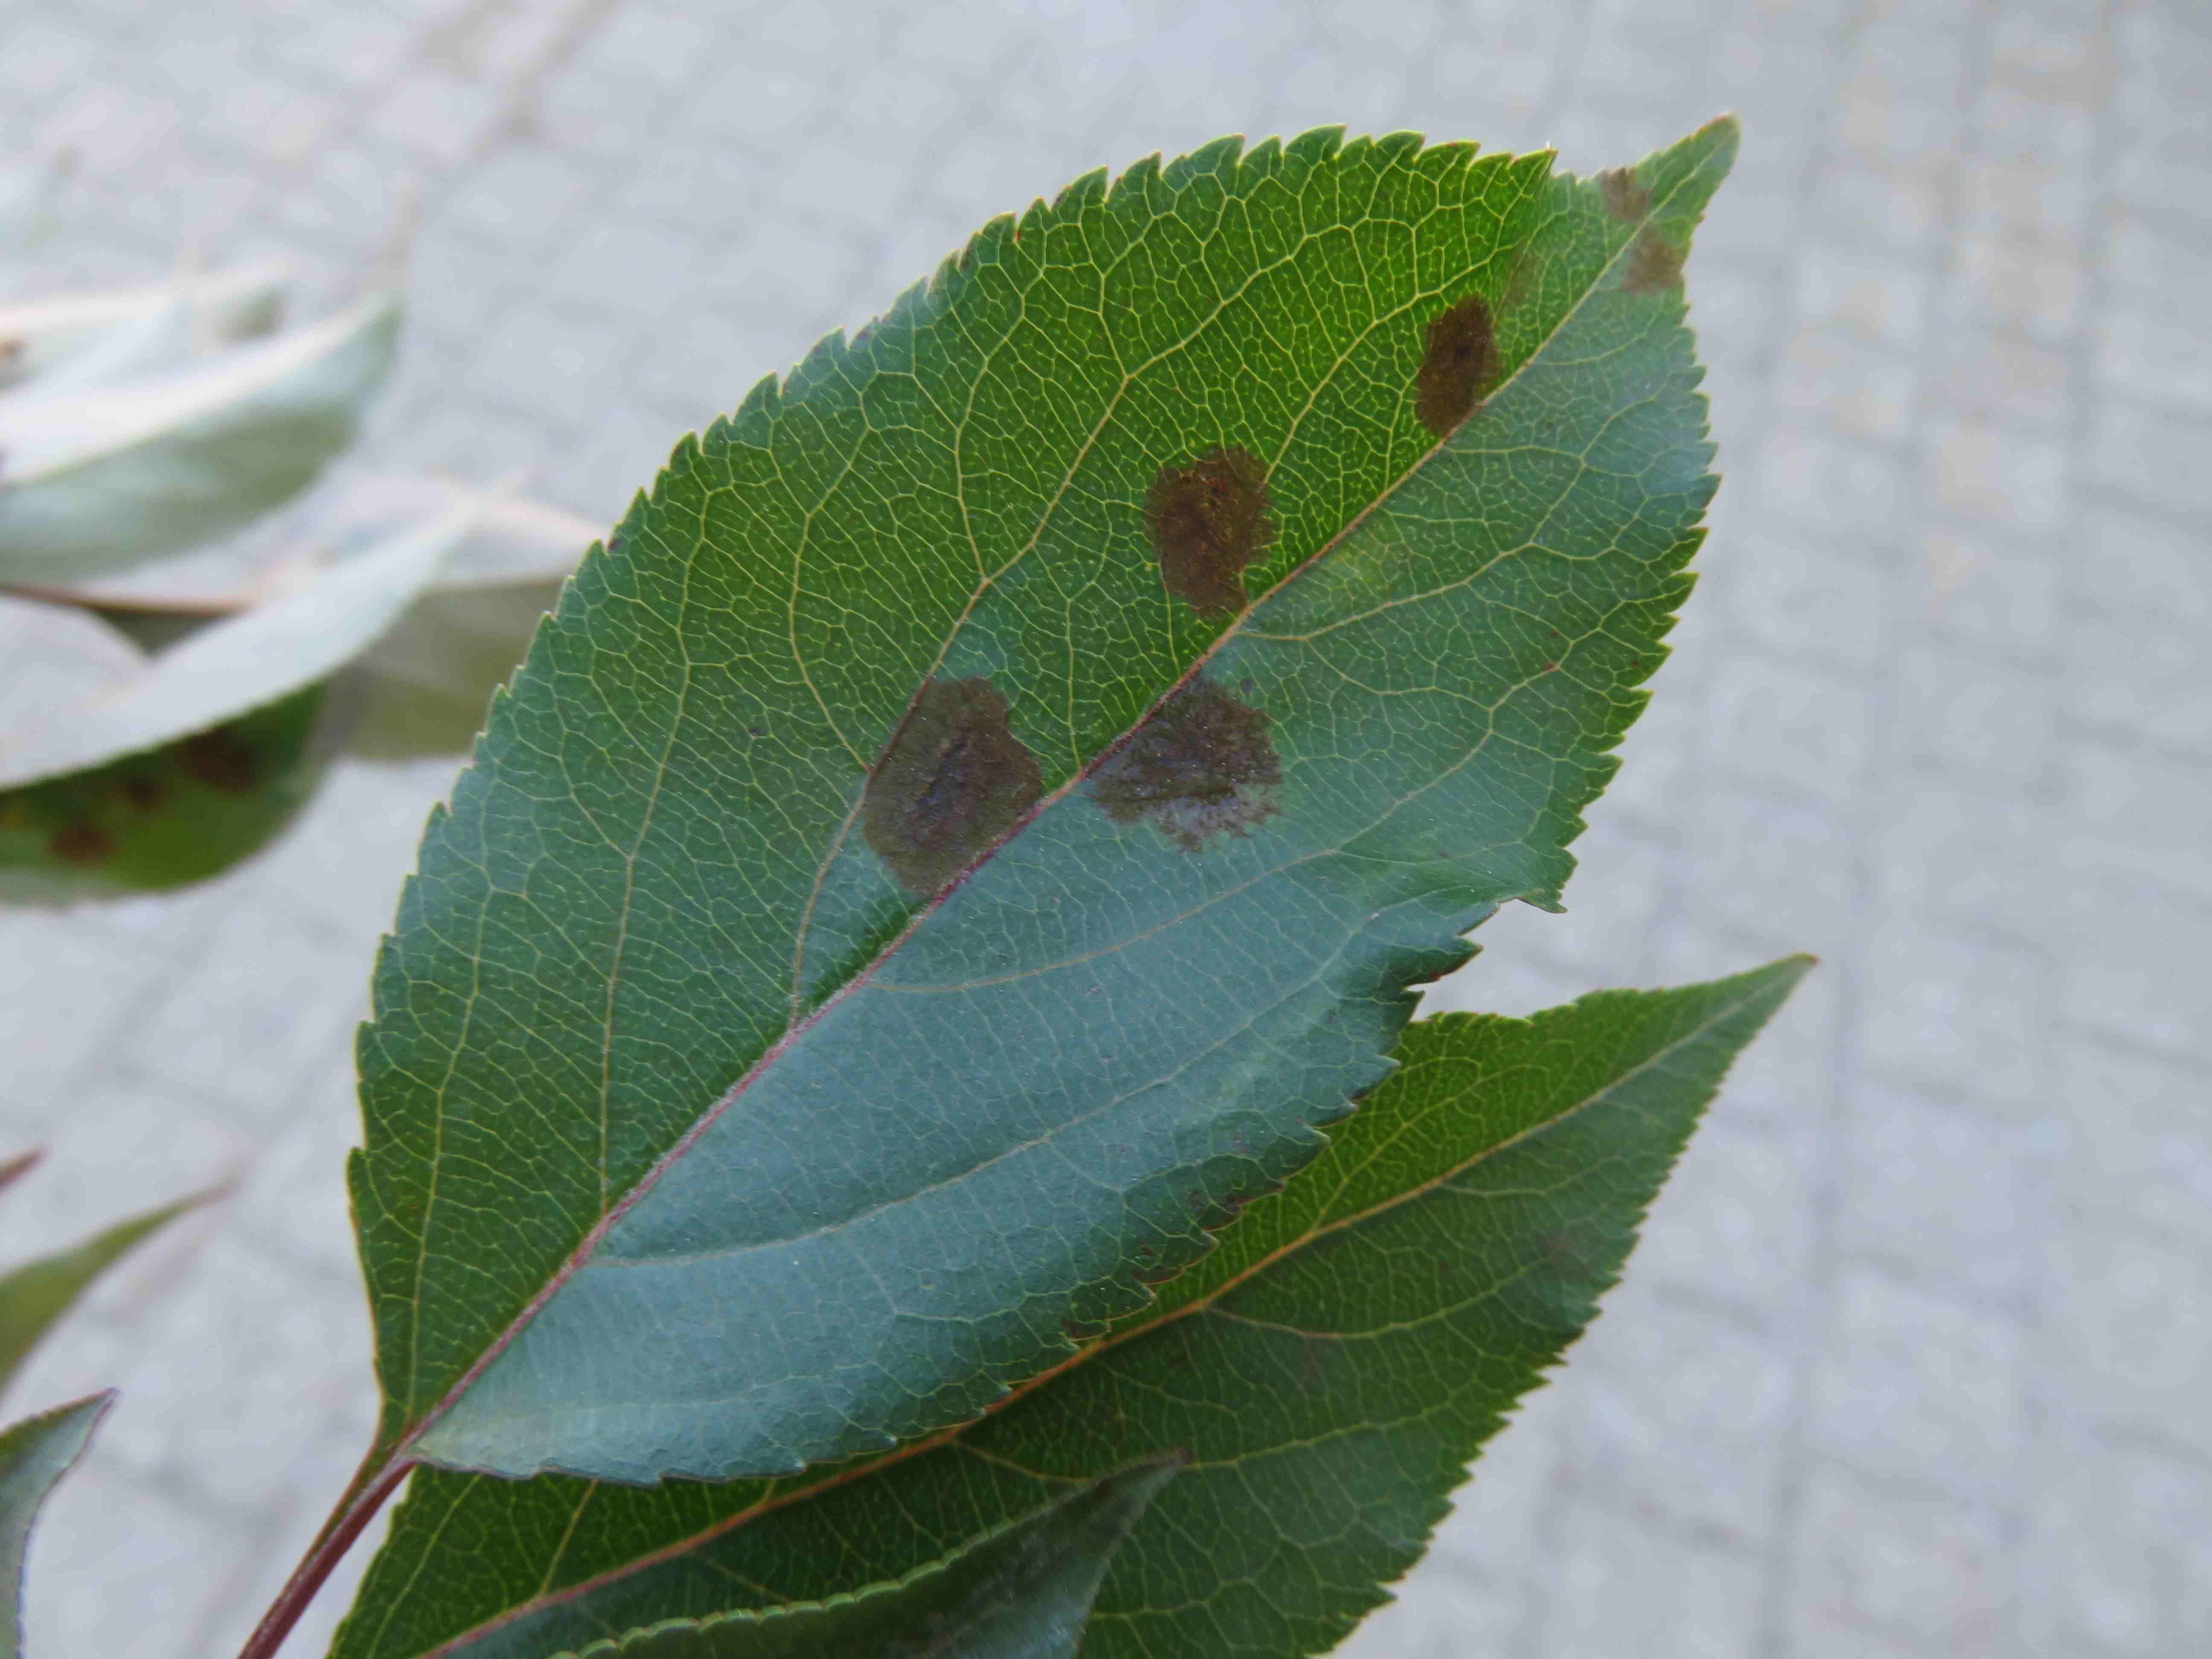Apple Scab Leaf: (341, 75, 1738, 1500)
